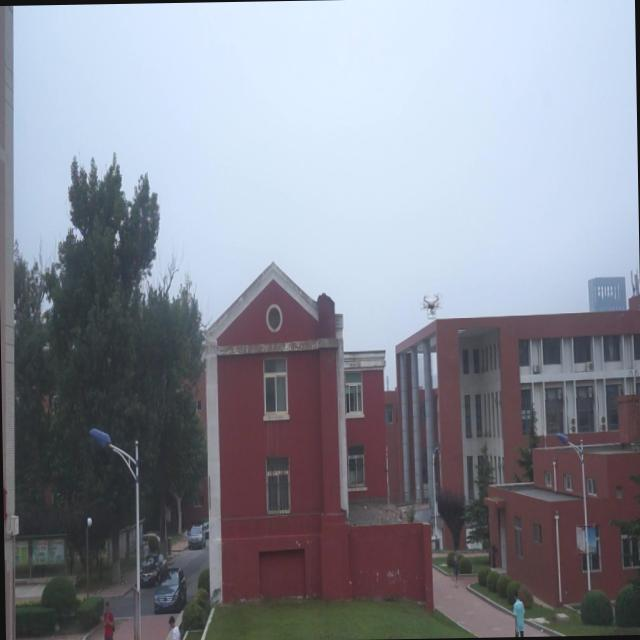drone: (420, 284, 444, 326)
